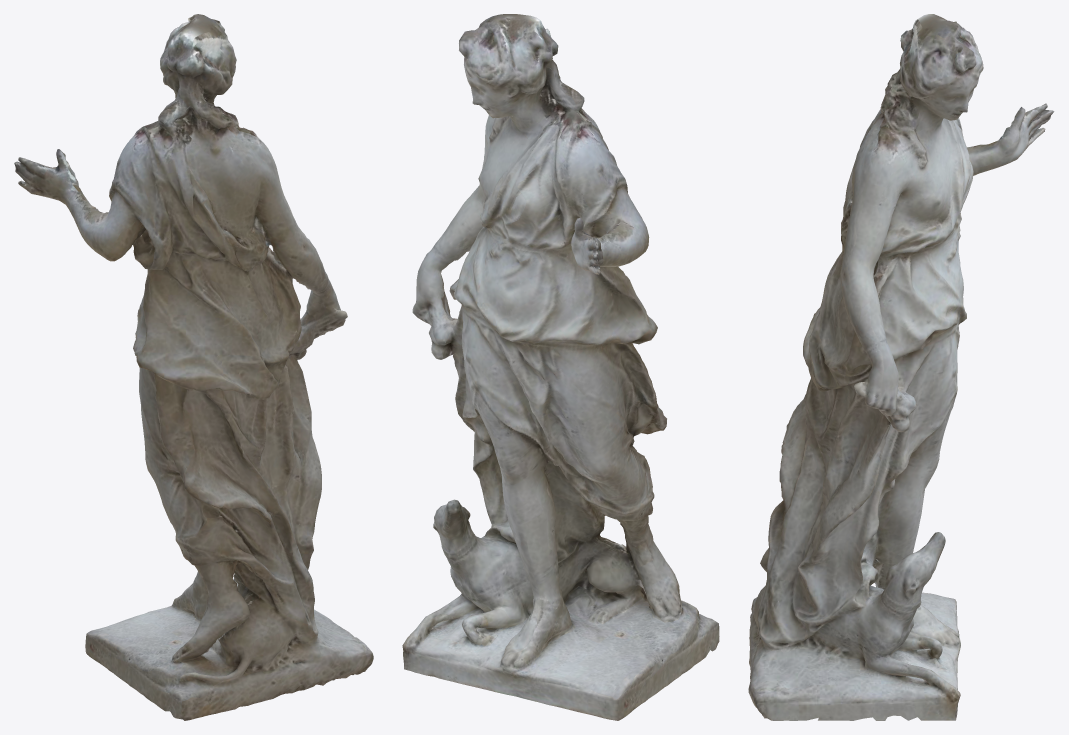
File: diane.glb
3 renders of one model, left to right at view 1: azimuth 30°, elevation 25°; view 2: azimuth 150°, elevation 25°; view 3: azimuth 270°, elevation 25°, orthographic. The views are drawn at different scales.
Parts seen in each view (by area): view 1: Object_3; view 2: Object_3; view 3: Object_3.
Boxes of the visible parts, left/top/right/bottom form: Object_3: left=14, top=14, right=373, bottom=720; Object_3: left=402, top=14, right=719, bottom=720; Object_3: left=748, top=14, right=1054, bottom=720.
Bounding box in the file's own units: 5.79 × 13.75 × 5.83.
Materials: 1 (1 with a texture image).
